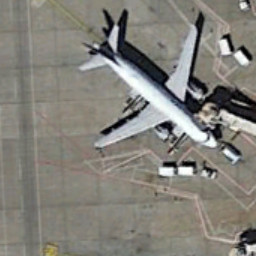Airplane: (63, 11, 236, 168)
